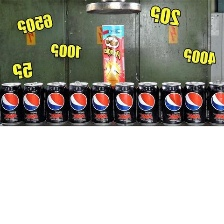can: (98, 20, 126, 86), (156, 79, 183, 131), (19, 79, 46, 126), (43, 76, 68, 126), (111, 79, 136, 129), (135, 78, 159, 130), (68, 77, 91, 127), (184, 80, 206, 130), (89, 80, 113, 125), (0, 81, 21, 126), (206, 79, 223, 126)
